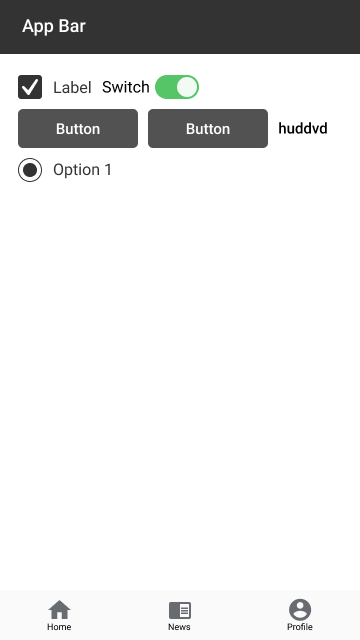button: (146, 106, 271, 150), (16, 107, 140, 150)
checkBox: (15, 72, 95, 101)
navigationButton: (1, 592, 360, 640)
radioButton: (16, 156, 117, 183)
switch: (100, 72, 203, 102)
textView: (273, 122, 331, 136)
toolbar: (1, 1, 360, 54)
